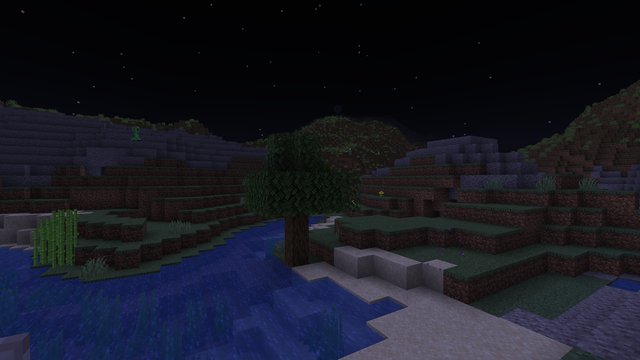creepers: (132, 125, 139, 141)
